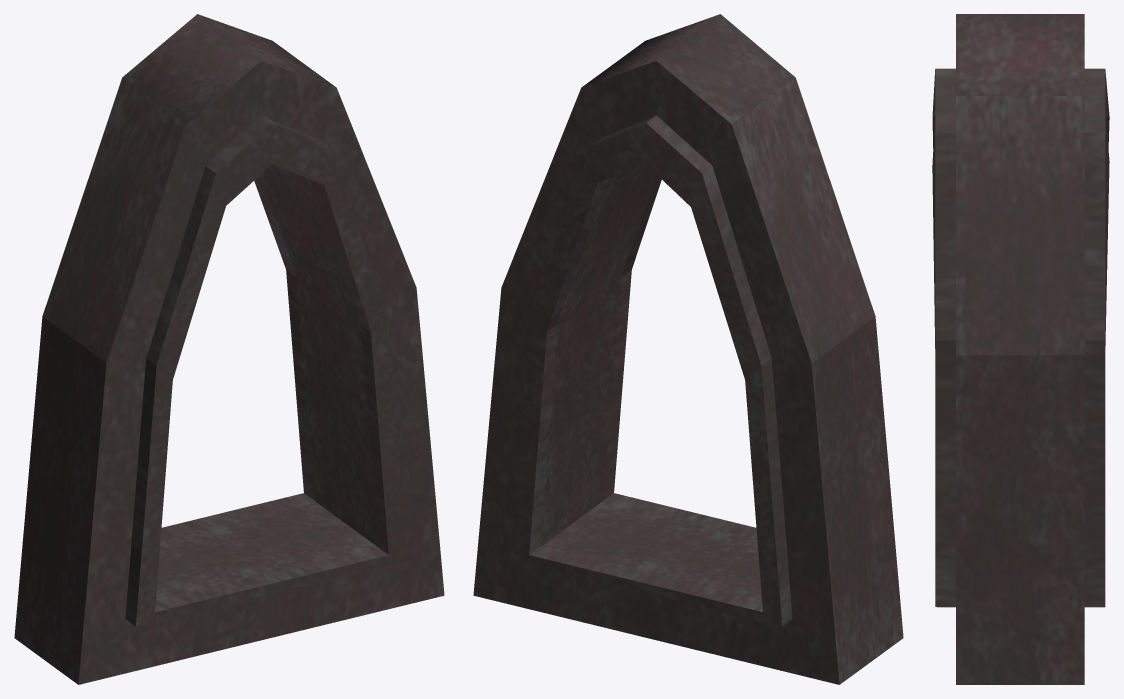
The model's file is Castle_BigWindow.fbx.
3 renders of one model, left to right at view 1: azimuth 30°, elevation 25°; view 2: azimuth 150°, elevation 25°; view 3: azimuth 270°, elevation 25°, orthographic.
Visible parts, largest first — view 1: Windows14; view 2: Windows14; view 3: Windows14.
Boxes of the visible parts, x1,y1,x2,y2 form: Windows14: [14, 14, 444, 684]; Windows14: [473, 14, 903, 684]; Windows14: [932, 14, 1109, 684].
Bounding box in the file's own units: 0.0846 × 0.1279 × 0.0353.
